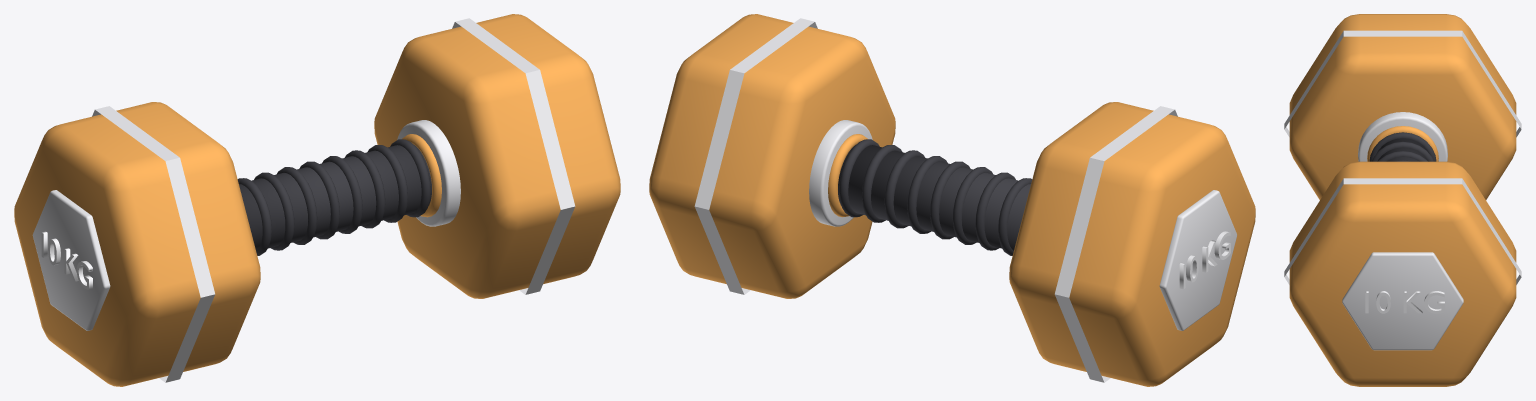
Rendered from dm_medium10kg.glb.
The picture shows the model from 3 angles, left to right: view 1: azimuth 30°, elevation 25°; view 2: azimuth 150°, elevation 25°; view 3: azimuth 270°, elevation 25°; orthographic projection. The views are drawn at different scales.
Visible parts, largest first — view 1: Medium10kg_HexHead.001, Medium10kg_HexHead, Medium10kg_Grip, Medium10kg_EndPlate, Medium10kg_Stripe.001, Medium10kg_Stripe, Medium10kg_InnerCollar.001, Medium10kg_Label, Medium10kg_GripEnd.001, Medium10kg_GripRing.002, Medium10kg_GripRing.004, Medium10kg_GripRing.008 (+5 smaller); view 2: Medium10kg_HexHead.001, Medium10kg_HexHead, Medium10kg_Grip, Medium10kg_EndPlate, Medium10kg_Stripe.001, Medium10kg_Stripe, Medium10kg_InnerCollar.001, Medium10kg_Label, Medium10kg_GripEnd.001, Medium10kg_GripRing.002, Medium10kg_GripRing.004, Medium10kg_GripRing.008 (+5 smaller); view 3: Medium10kg_HexHead.001, Medium10kg_HexHead, Medium10kg_EndPlate.001, Medium10kg_Stripe, Medium10kg_Stripe.001, Medium10kg_InnerCollar, Medium10kg_Label.001, Medium10kg_GripEnd, Medium10kg_GripRing, Medium10kg_Grip, Medium10kg_GripRing.001, Medium10kg_GripRing.002.
Part boxes in pixels (bbox=[...]): Medium10kg_HexHead.001: bbox=[374, 14, 620, 298]; Medium10kg_HexHead: bbox=[14, 102, 260, 386]; Medium10kg_Grip: bbox=[239, 144, 431, 250]; Medium10kg_EndPlate: bbox=[32, 190, 110, 330]; Medium10kg_Stripe.001: bbox=[452, 18, 575, 294]; Medium10kg_Stripe: bbox=[92, 106, 215, 382]; Medium10kg_InnerCollar.001: bbox=[397, 120, 460, 226]; Medium10kg_Label: bbox=[41, 231, 92, 289]; Medium10kg_GripEnd.001: bbox=[402, 134, 441, 217]; Medium10kg_GripRing.002: bbox=[254, 172, 294, 250]; Medium10kg_GripRing.004: bbox=[299, 161, 339, 239]; Medium10kg_GripRing.008: bbox=[390, 139, 430, 217]; Medium10kg_HexHead.001: bbox=[649, 14, 895, 298]; Medium10kg_HexHead: bbox=[1009, 102, 1255, 386]; Medium10kg_Grip: bbox=[838, 144, 1030, 250]; Medium10kg_EndPlate: bbox=[1159, 190, 1237, 330]; Medium10kg_Stripe.001: bbox=[694, 18, 817, 294]; Medium10kg_Stripe: bbox=[1054, 106, 1177, 382]; Medium10kg_InnerCollar.001: bbox=[809, 120, 872, 226]; Medium10kg_Label: bbox=[1179, 231, 1230, 289]; Medium10kg_GripEnd.001: bbox=[828, 134, 867, 217]; Medium10kg_GripRing.002: bbox=[975, 172, 1015, 250]; Medium10kg_GripRing.004: bbox=[930, 161, 970, 239]; Medium10kg_GripRing.008: bbox=[839, 139, 879, 217]; Medium10kg_HexHead.001: bbox=[1289, 161, 1516, 386]; Medium10kg_HexHead: bbox=[1289, 14, 1516, 199]; Medium10kg_EndPlate.001: bbox=[1342, 252, 1463, 350]; Medium10kg_Stripe: bbox=[1284, 30, 1521, 137]; Medium10kg_Stripe.001: bbox=[1284, 178, 1521, 284]; Medium10kg_InnerCollar: bbox=[1358, 112, 1447, 161]; Medium10kg_Label.001: bbox=[1365, 291, 1444, 313]; Medium10kg_GripEnd: bbox=[1367, 126, 1438, 161]; Medium10kg_GripRing: bbox=[1369, 132, 1436, 161]; Medium10kg_Grip: bbox=[1376, 138, 1429, 161]; Medium10kg_GripRing.001: bbox=[1372, 141, 1433, 161]; Medium10kg_GripRing.002: bbox=[1378, 151, 1427, 161].
Size of the model in its own units: 1.56 by 0.6528 by 0.7537.
